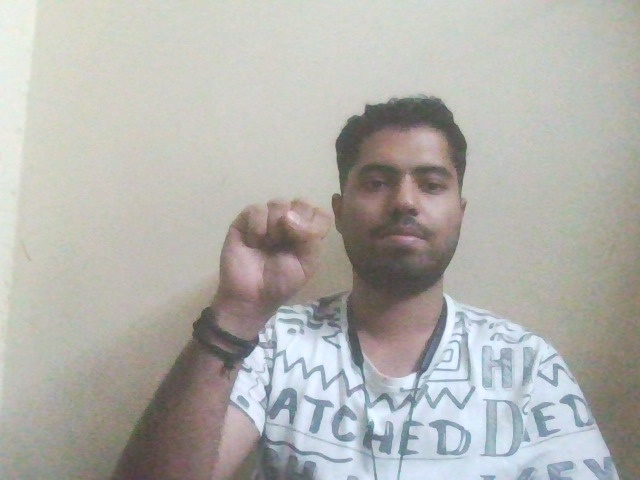W: (174, 178, 358, 318)
